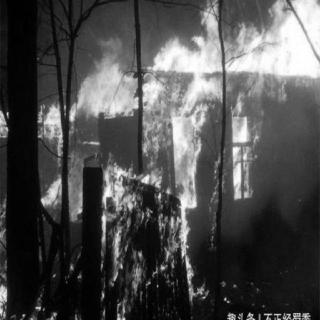Fire: (37, 7, 316, 304), (3, 87, 11, 316)
